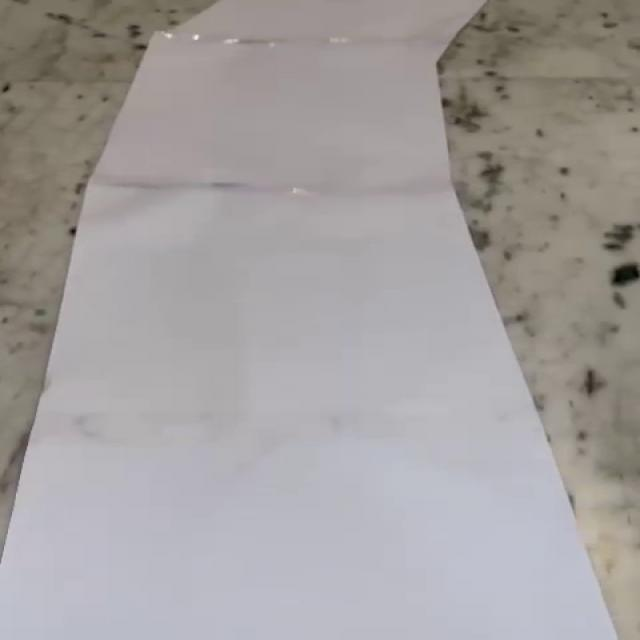road: (3, 0, 616, 640)
